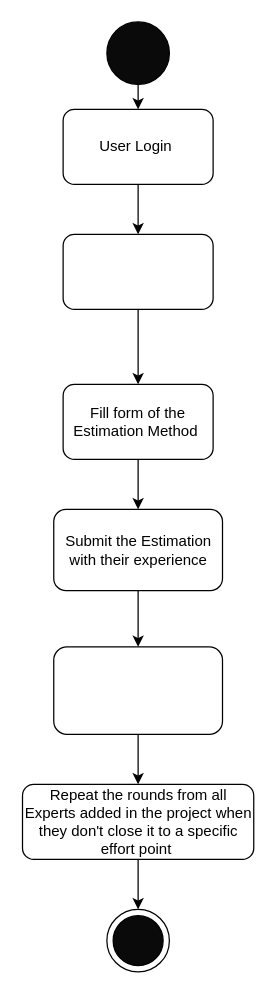
Some shapes in this 275 by 994 pixel diagram are drawn without their labels. Each missing label, with the centre of its shape:
Click on Manual Estimation Method: [137,271]
Successfully saved in the database and show other developer too: [137,690]
